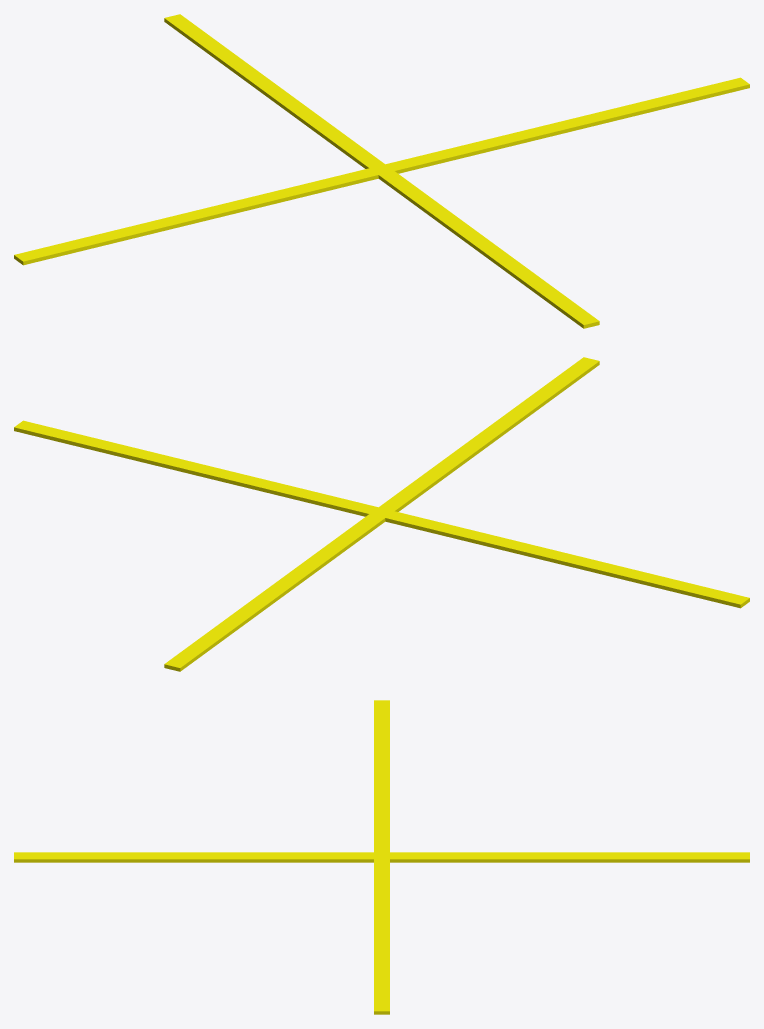
Rendered from tape.fbx.
3 views of the same model, one above another, from view 1: azimuth 30°, elevation 25°; view 2: azimuth 150°, elevation 25°; view 3: azimuth 270°, elevation 25° (orthographic). The views are drawn at different scales.
Visible parts, largest first — view 1: polySurface1; view 2: polySurface1; view 3: polySurface1.
Part boxes in pixels (left/top/right/bottom): polySurface1: left=14, top=14, right=749, bottom=328; polySurface1: left=14, top=357, right=749, bottom=671; polySurface1: left=14, top=700, right=749, bottom=1014.
Size of the model in its own units: 4.56 by 0.0223 by 4.56.
